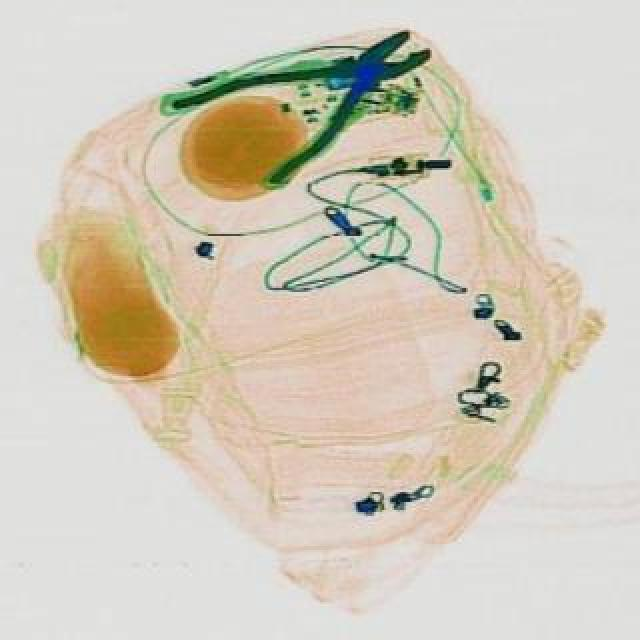wrench: (174, 2, 462, 208)
